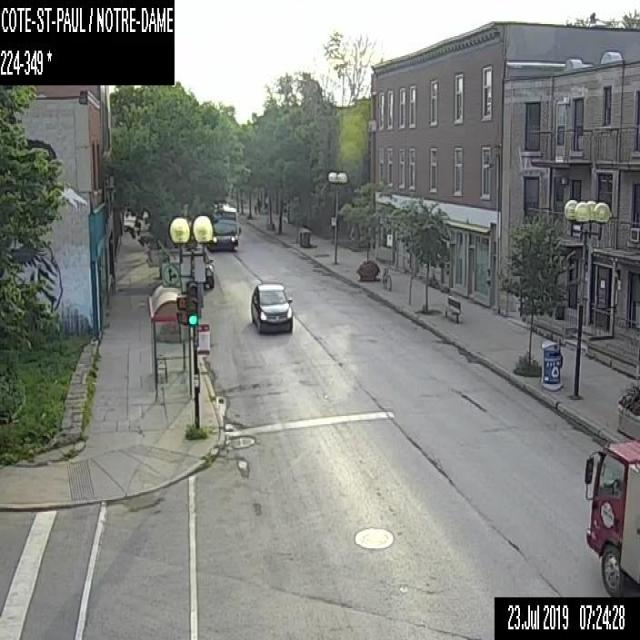bus: (207, 204, 242, 251)
vehicle: (583, 437, 639, 596), (249, 282, 292, 334)
